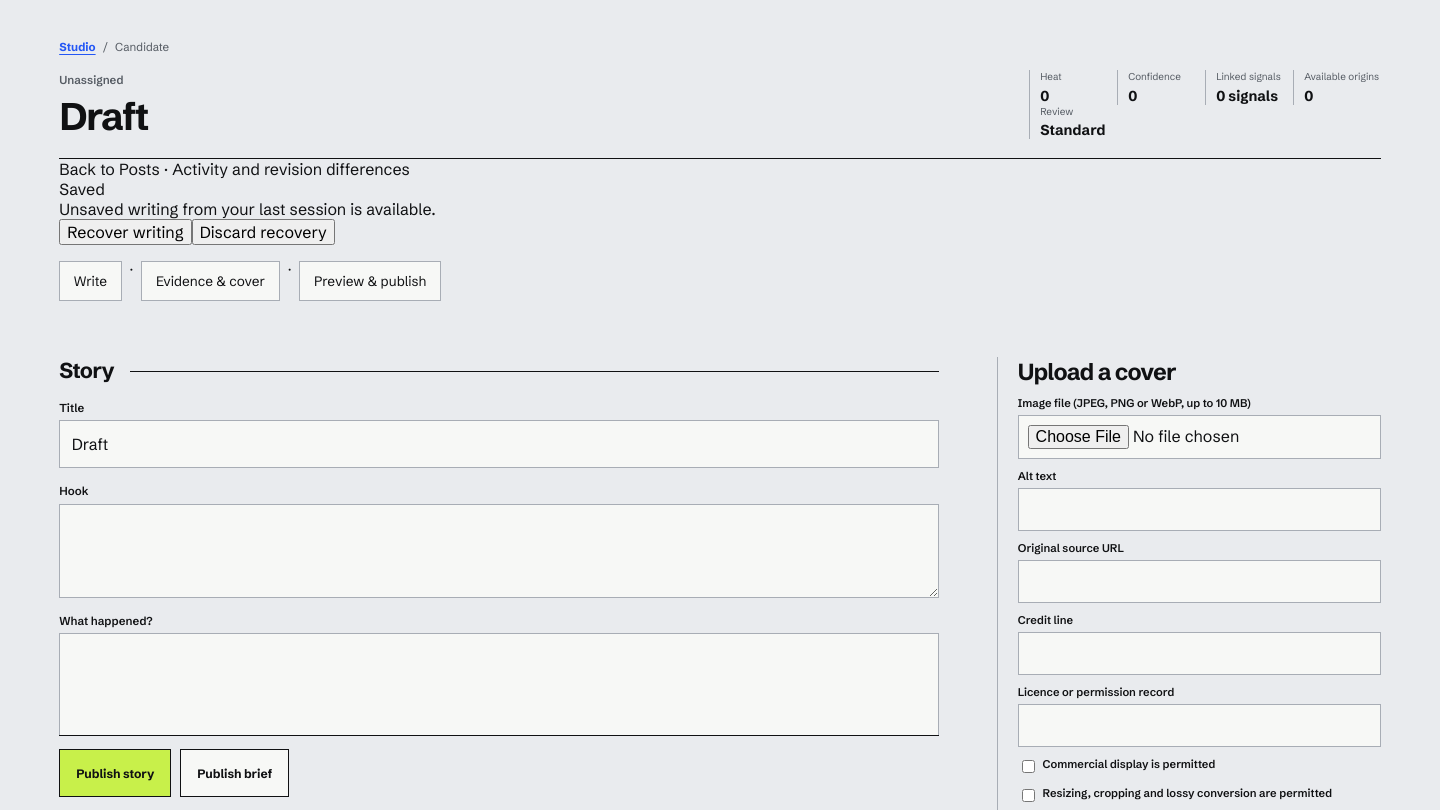
Test: offers recovery and retains its writing when an upload fails
Click the button "Recover writing" at x=125, y=232, box [59,219,192,245]
(page scrolled)
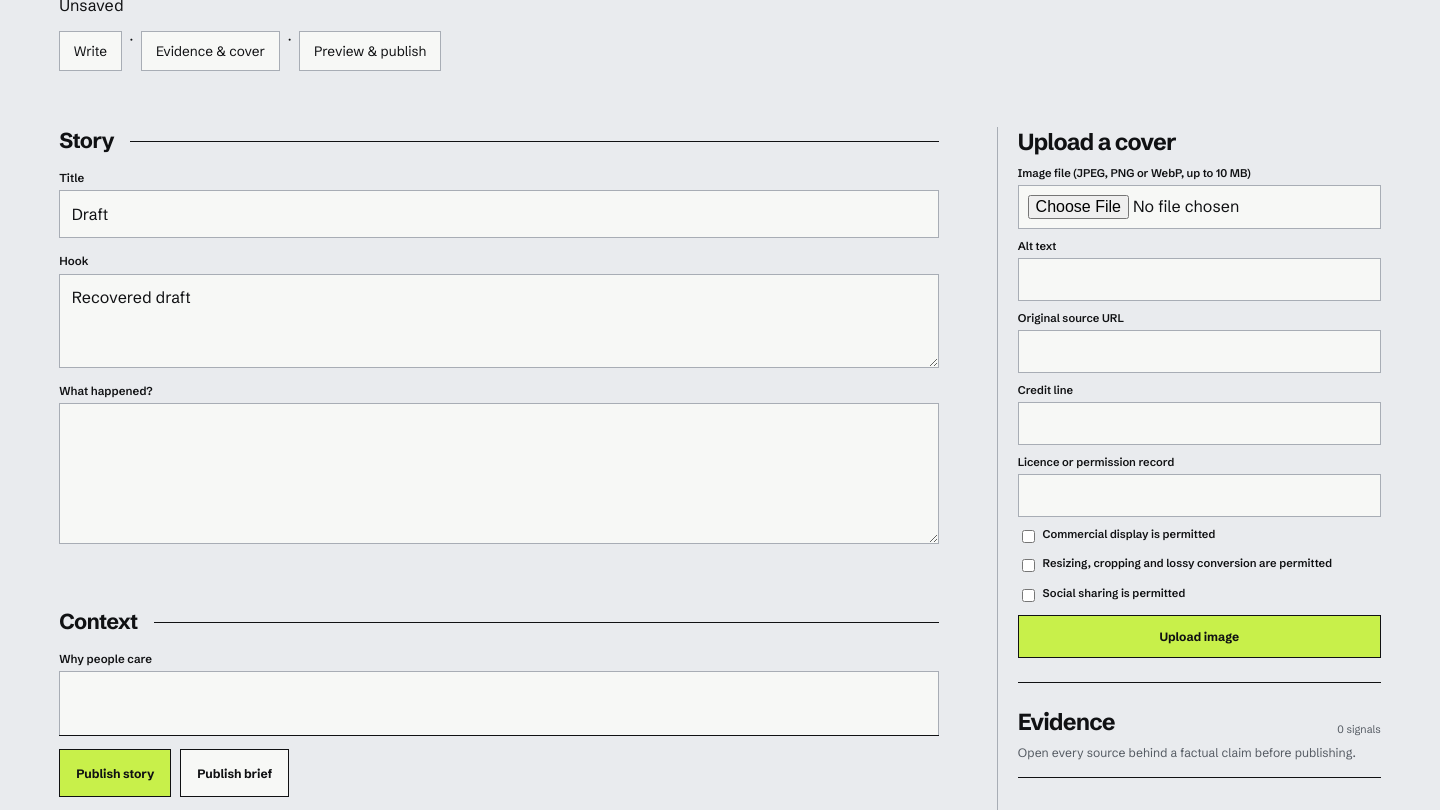
Submit the form named "Upload approved image", box [1018,127,1381,683]
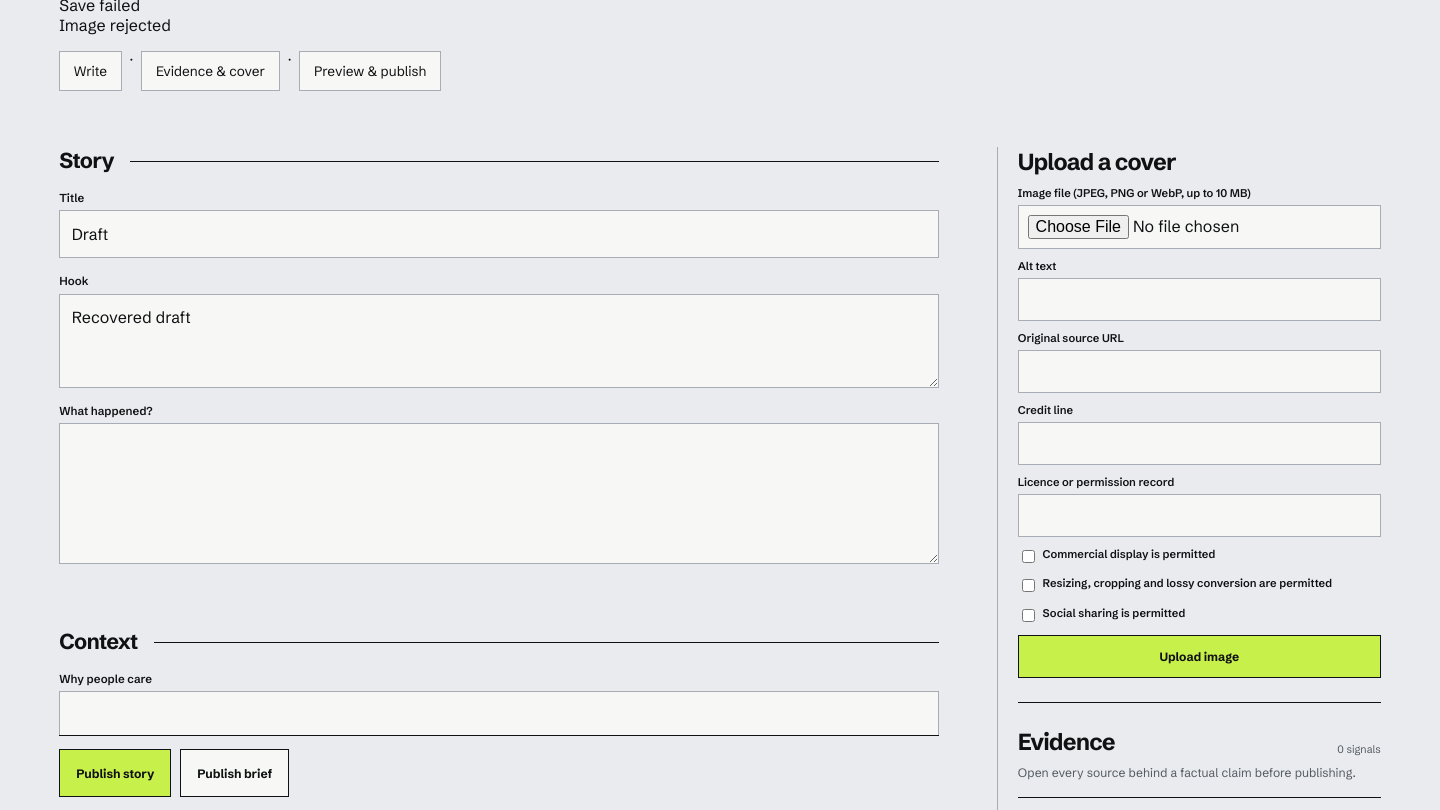
Now the text box labelled "Hook" holds "Recovered draft", box [59,294,939,388]
Now the message "Image rejected" is shown, box [59,15,171,35]
